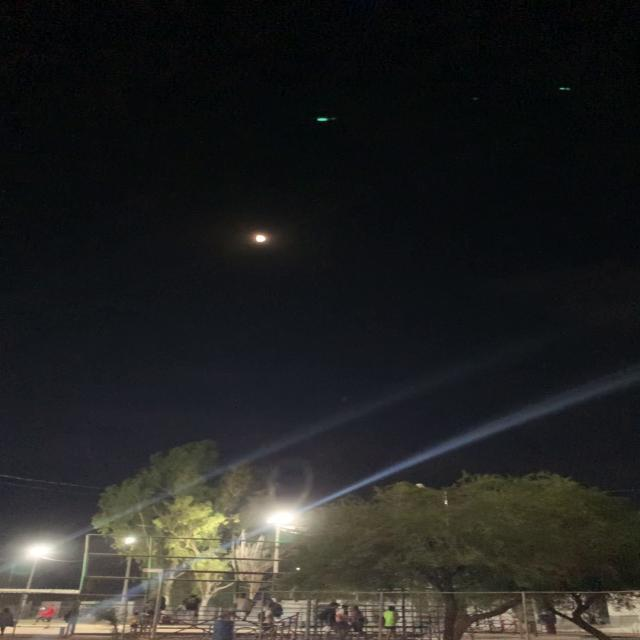moon: (240, 227, 287, 257)
